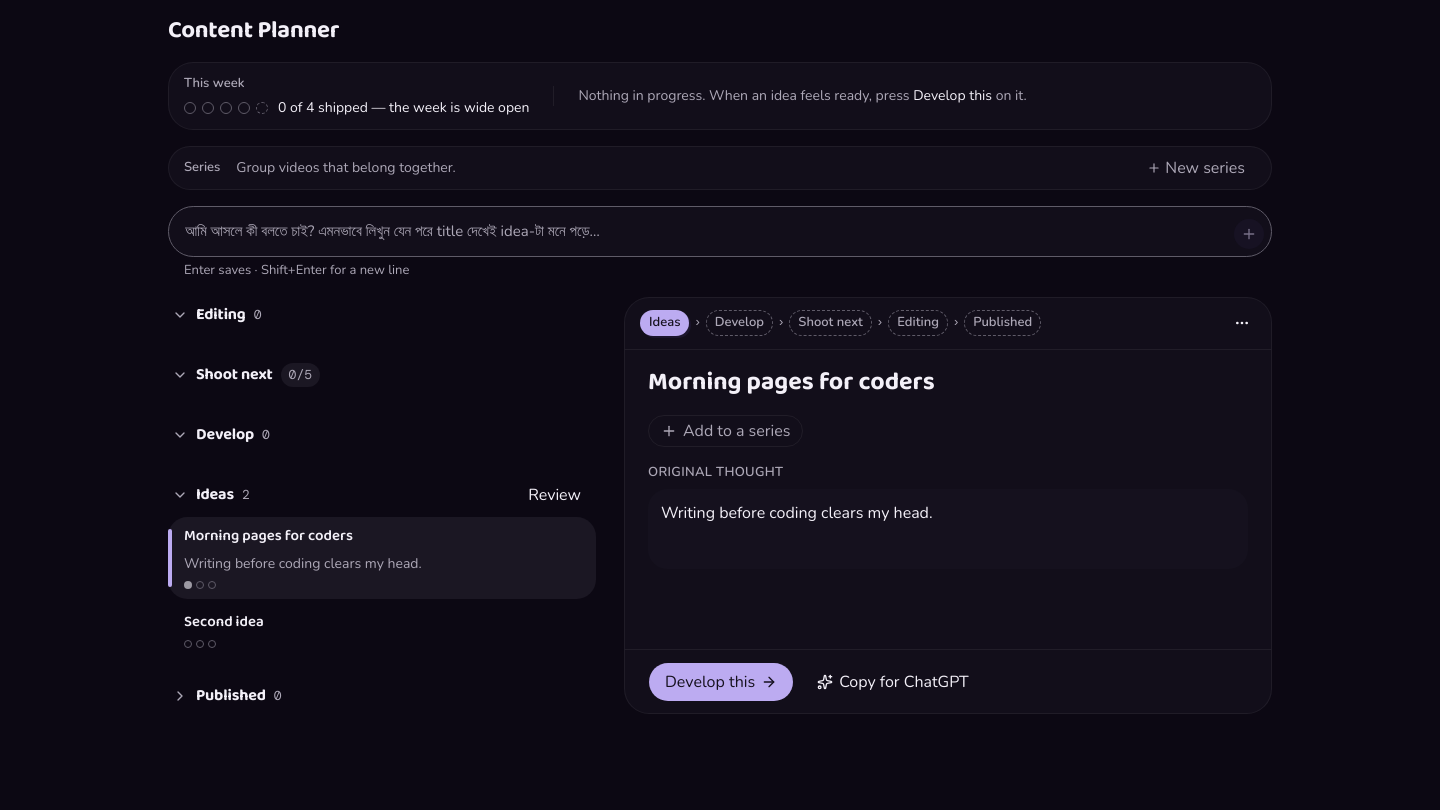
ContentPlannerView — Focus + Shelf › Review ideas goes one card at a time and the count goes down
Click the button "Review": (555, 495) [517,481,592,509]
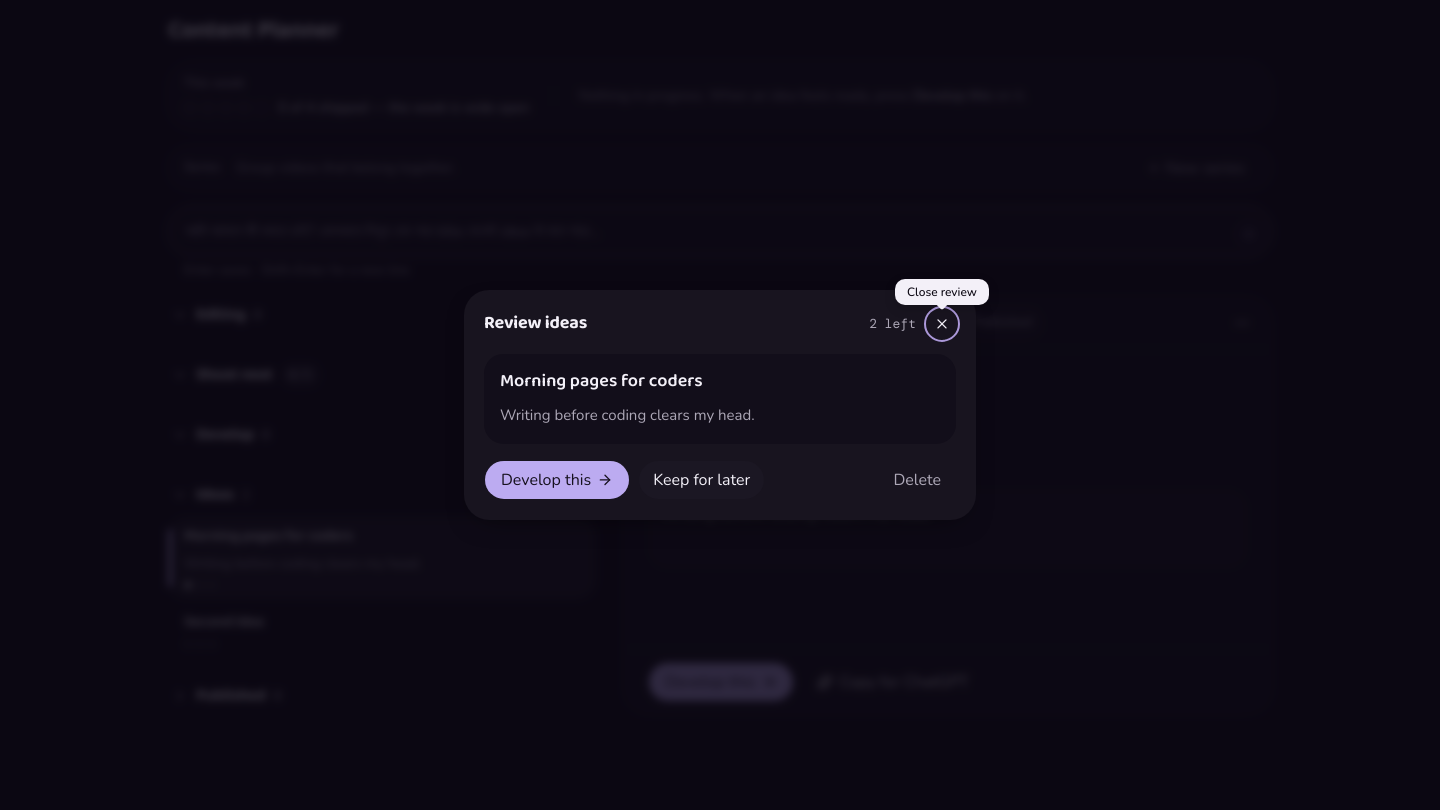
Now the text "2 left" is shown, box [869,314,916,334]
Now the text "Morning pages for coders" is shown, box [500,366,703,397]
Click the button "Keep for later": (702, 480) [638,460,765,500]
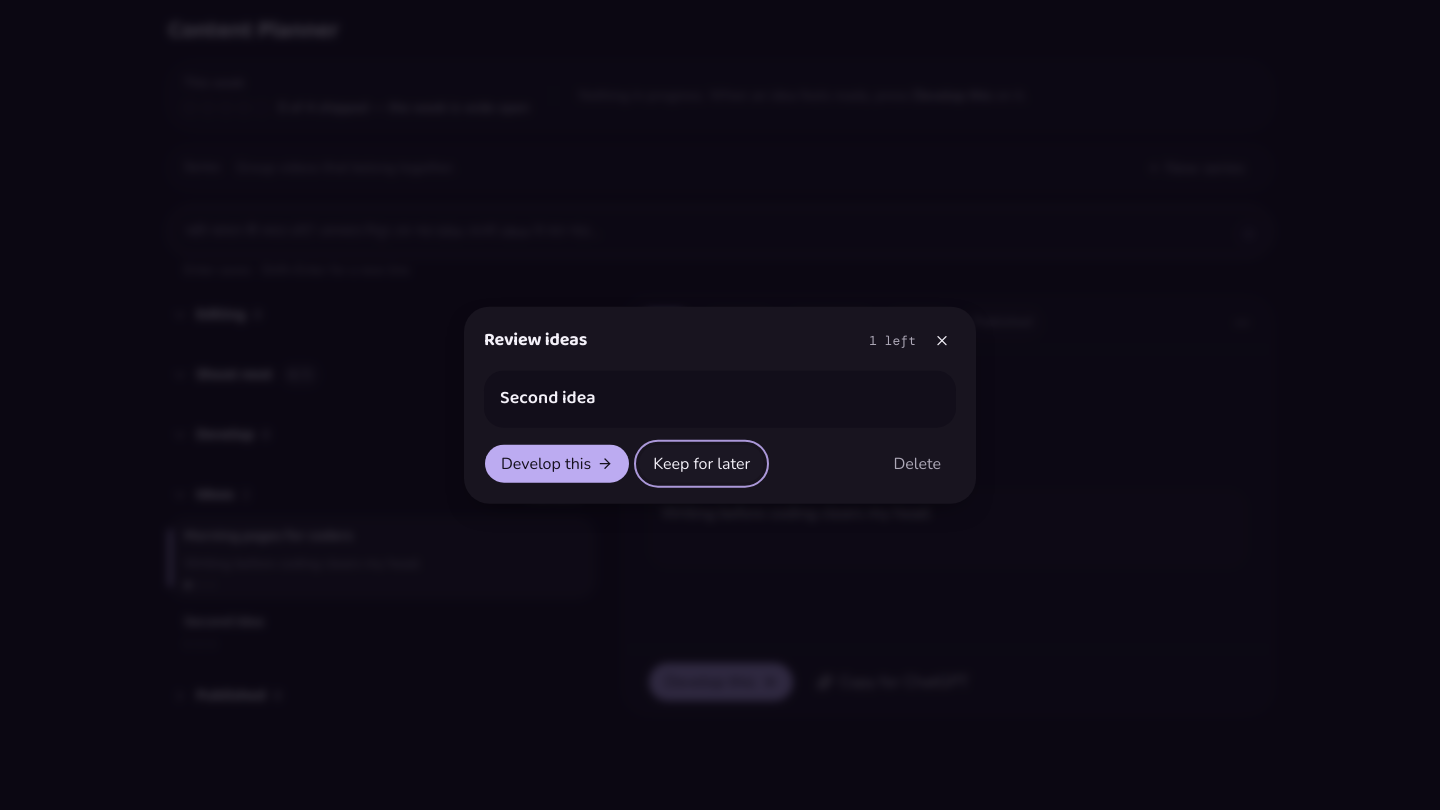
Now the text "1 left" is shown, box [869,331,916,350]
Now the text "Second idea" is shown, box [500,383,596,414]
Click the button "Keep for later": (702, 463) [638,443,765,483]
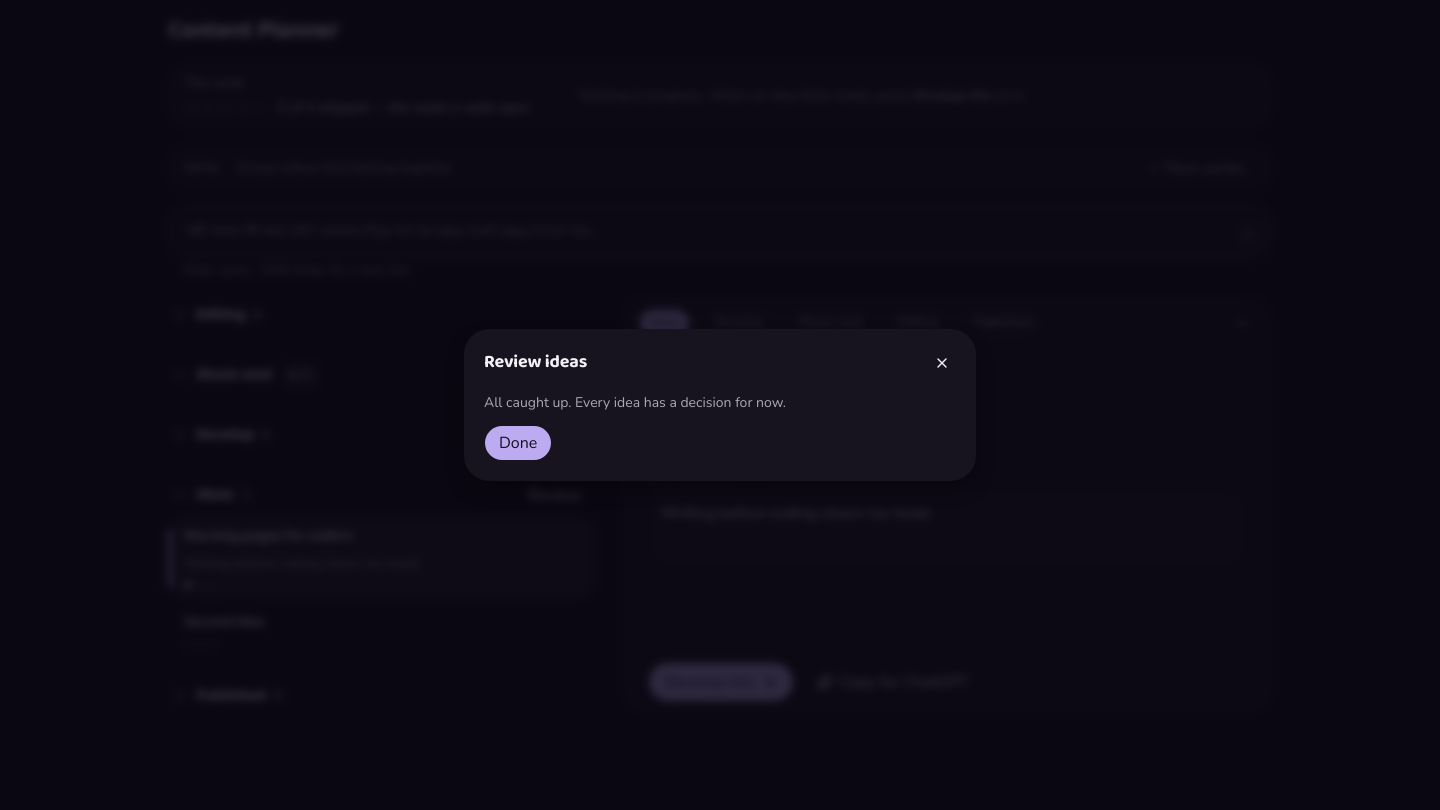
Now the text "All caught up. Every idea has a decision for now." is shown, box [484,393,786,413]
